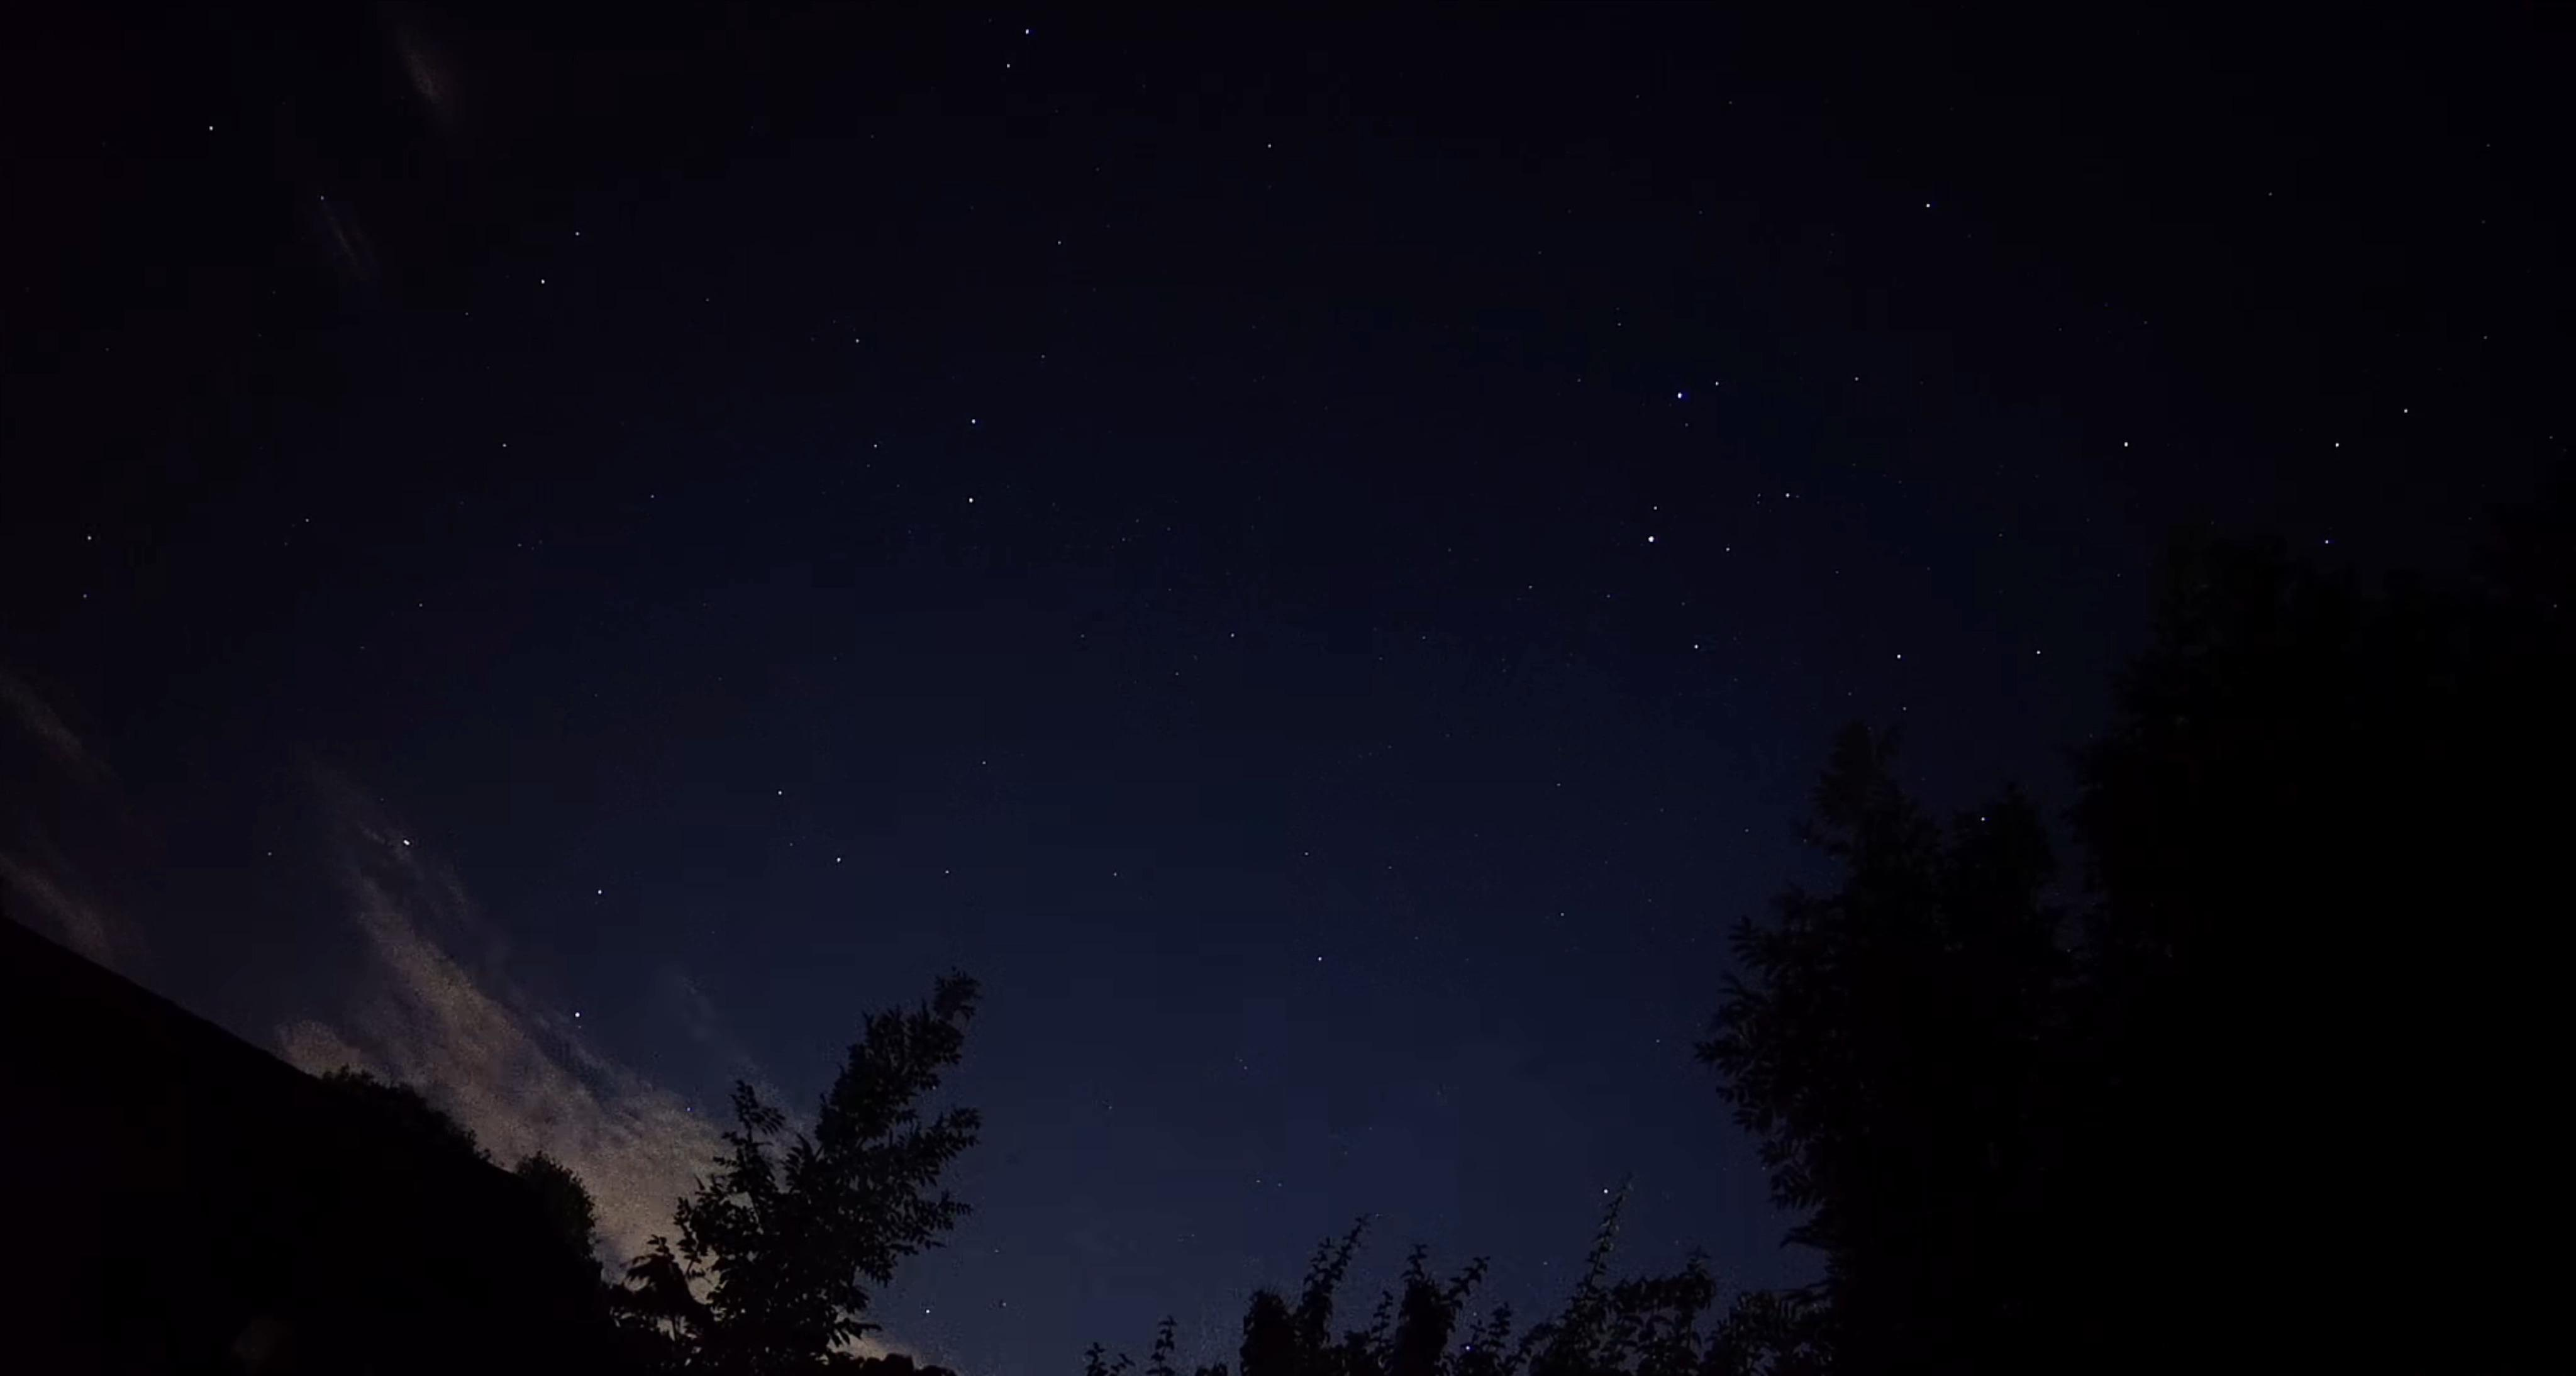Plane: (385, 823, 428, 851)
